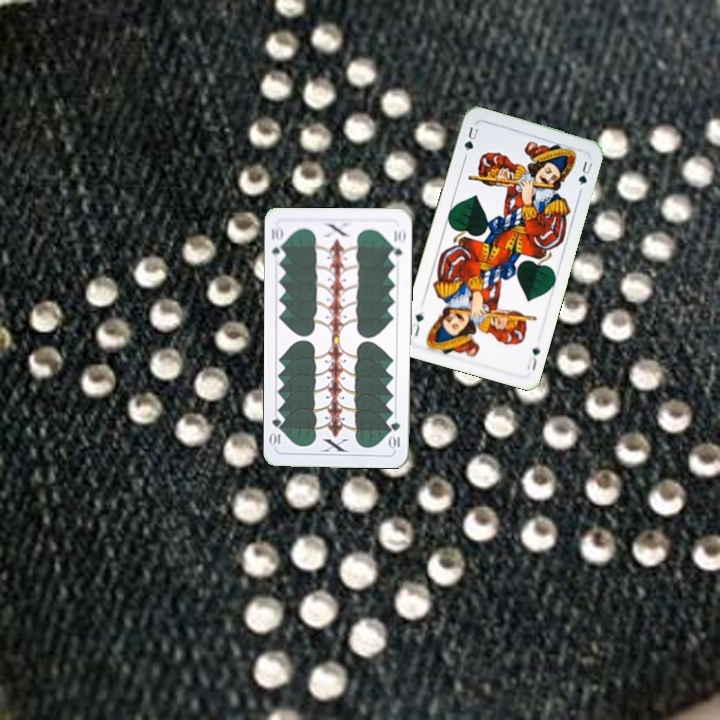G10: (267, 222, 287, 263), (387, 417, 402, 452)
GU: (460, 123, 481, 160), (523, 343, 543, 373)
